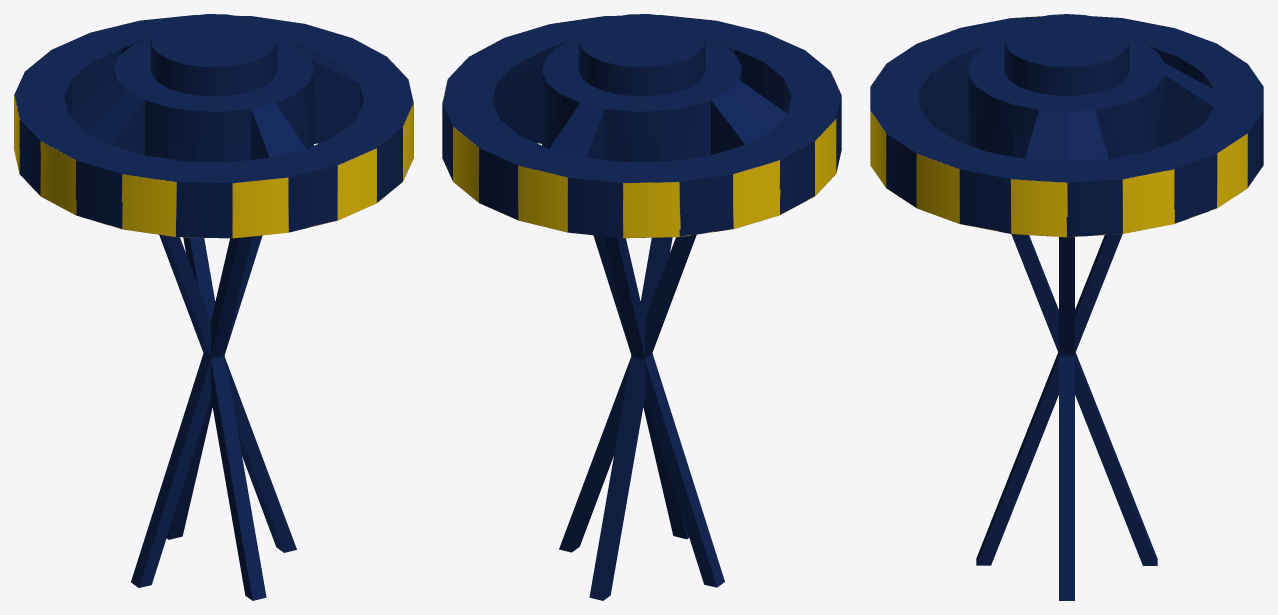
Rendered from building6.glb.
3 renders of one model, left to right at view 1: azimuth 30°, elevation 25°; view 2: azimuth 150°, elevation 25°; view 3: azimuth 270°, elevation 25°, orthographic.
Visible parts, largest first — view 1: building6; view 2: building6; view 3: building6.
Boxes of the visible parts, box(x1,y1,x2,y2) form: building6: box(14, 14, 413, 600); building6: box(442, 14, 841, 600); building6: box(870, 14, 1263, 600).
Bounding box in the file's own units: 0.4451 × 0.6451 × 0.4406.
Materials: 1 (1 with a texture image).
